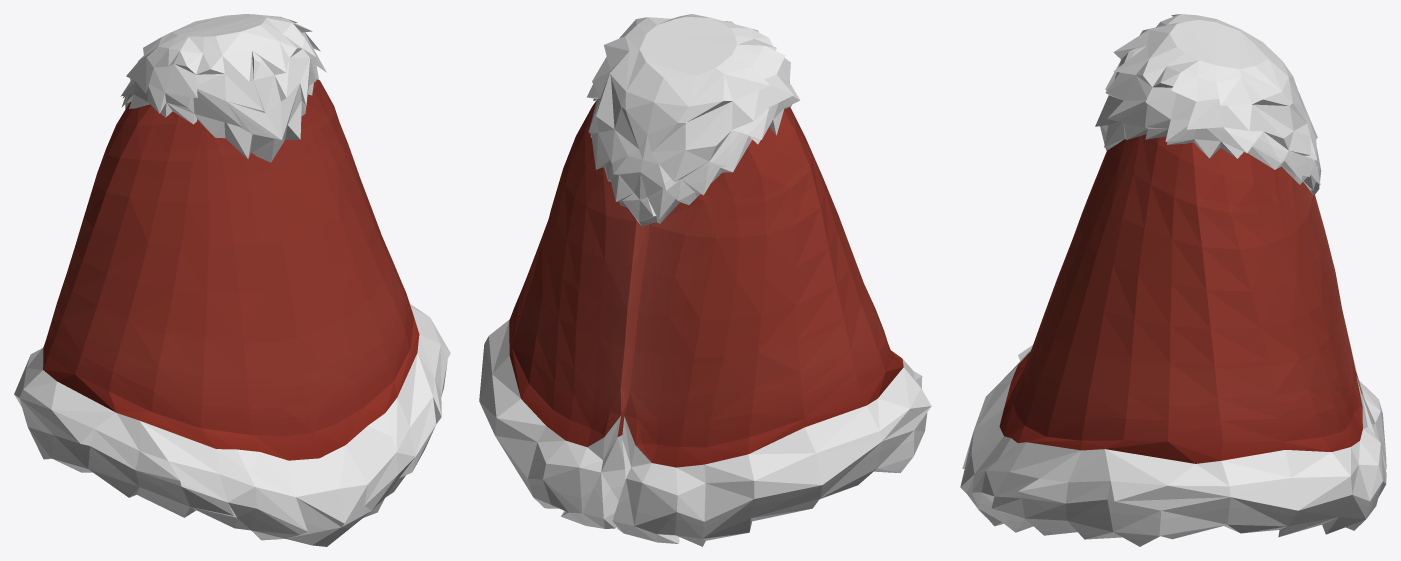
Rendered from CharSkyKid_Wing_Xmas.glb.
3 renders of one model, left to right at view 1: azimuth 30°, elevation 25°; view 2: azimuth 150°, elevation 25°; view 3: azimuth 270°, elevation 25°, orthographic. The views are drawn at different scales.
Parts seen in each view (by area): view 1: CharSkyKid_Wing_Xmas; view 2: CharSkyKid_Wing_Xmas; view 3: CharSkyKid_Wing_Xmas.
Part boxes in pixels (x1,y1,x2,y2): CharSkyKid_Wing_Xmas: [14, 14, 450, 546]; CharSkyKid_Wing_Xmas: [479, 14, 931, 546]; CharSkyKid_Wing_Xmas: [960, 14, 1386, 546].
Size of the model in its own units: 6.84 by 7.7 by 6.14.
Materials: 1 (1 with a texture image).
